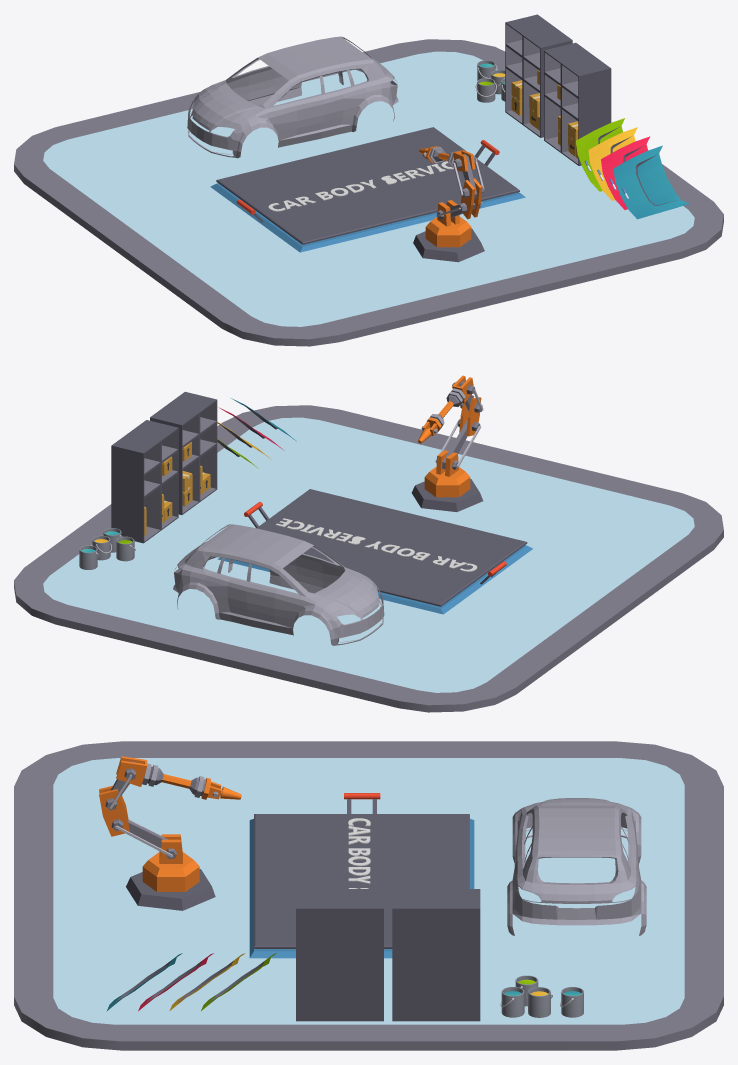
Rendered from Car_Body_Service.fbx.
3 renders of one model, top to bottom at view 1: azimuth 30°, elevation 25°; view 2: azimuth 150°, elevation 25°; view 3: azimuth 270°, elevation 25°, orthographic. The views are drawn at different scales.
Parts seen in each view (by area): view 1: Floor2, Stand, Car_7C, pasted__Part_01_53, pasted__Part_01_52, pasted__polySurface83, Shoulder1, Base1, pasted__polySurface81, pasted__polySurface82, pasted__polySurface80, Middle_Arm_3; view 2: Floor2, Stand, Car_7C, pasted__Part_01_52, pasted__Part_01_53, Shoulder1, Base1, Middle_Arm_3, Upper_Arm1; view 3: Floor2, Stand, Car_7C, pasted__Part_01_52, pasted__Part_01_53, Shoulder1, Base1, Middle_Arm_3, Upper_Forearm1, Forearm1, can_04, can_03 (+2 smaller).
Boxes of the visible parts, bbox=[...] form: Floor2: bbox=[14, 39, 723, 346]; Stand: bbox=[210, 127, 525, 252]; Car_7C: bbox=[187, 36, 398, 158]; pasted__Part_01_53: bbox=[544, 42, 611, 165]; pasted__Part_01_52: bbox=[505, 14, 572, 137]; pasted__polySurface83: bbox=[613, 145, 689, 219]; Shoulder1: bbox=[425, 200, 471, 247]; Base1: bbox=[413, 228, 484, 262]; pasted__polySurface81: bbox=[588, 127, 637, 200]; pasted__polySurface82: bbox=[601, 136, 677, 209]; pasted__polySurface80: bbox=[576, 118, 624, 191]; Middle_Arm_3: bbox=[458, 178, 483, 219]; Floor2: bbox=[14, 405, 723, 712]; Stand: bbox=[217, 489, 532, 614]; Car_7C: bbox=[173, 524, 384, 645]; pasted__Part_01_52: bbox=[111, 420, 178, 543]; pasted__Part_01_53: bbox=[150, 391, 217, 514]; Shoulder1: bbox=[424, 450, 470, 497]; Base1: bbox=[411, 479, 483, 511]; Middle_Arm_3: bbox=[457, 395, 482, 436]; Upper_Arm1: bbox=[435, 419, 480, 468]; Floor2: bbox=[14, 741, 723, 1050]; Stand: bbox=[249, 793, 474, 958]; Car_7C: bbox=[507, 798, 646, 935]; pasted__Part_01_52: bbox=[392, 889, 480, 1021]; pasted__Part_01_53: bbox=[296, 889, 383, 1021]; Shoulder1: bbox=[142, 834, 199, 891]; Base1: bbox=[126, 869, 215, 910]; Middle_Arm_3: bbox=[99, 785, 129, 836]; Upper_Forearm1: bbox=[116, 756, 152, 786]; Forearm1: bbox=[148, 765, 205, 797]; can_04: bbox=[500, 987, 524, 1017]; can_03: bbox=[526, 987, 552, 1017].
Bounding box in the file's own units: 39.05 × 8.59 × 39.05.
6 materials, 5 textured.
